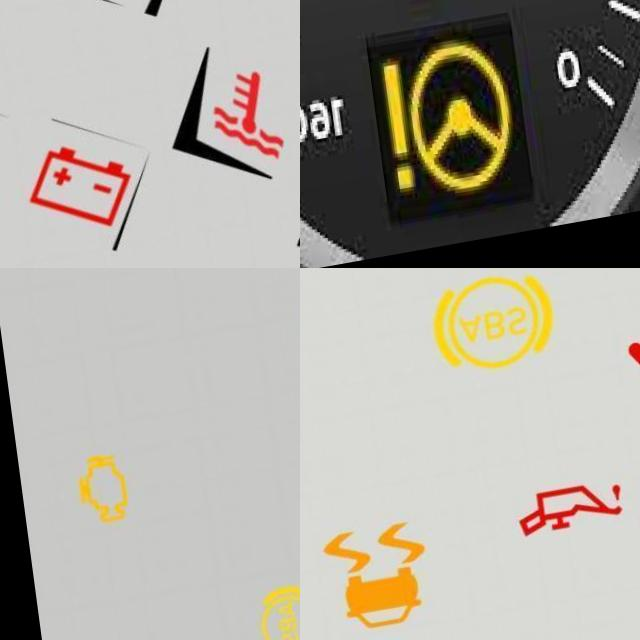Electronic Power Steering: (360, 44, 511, 222)
